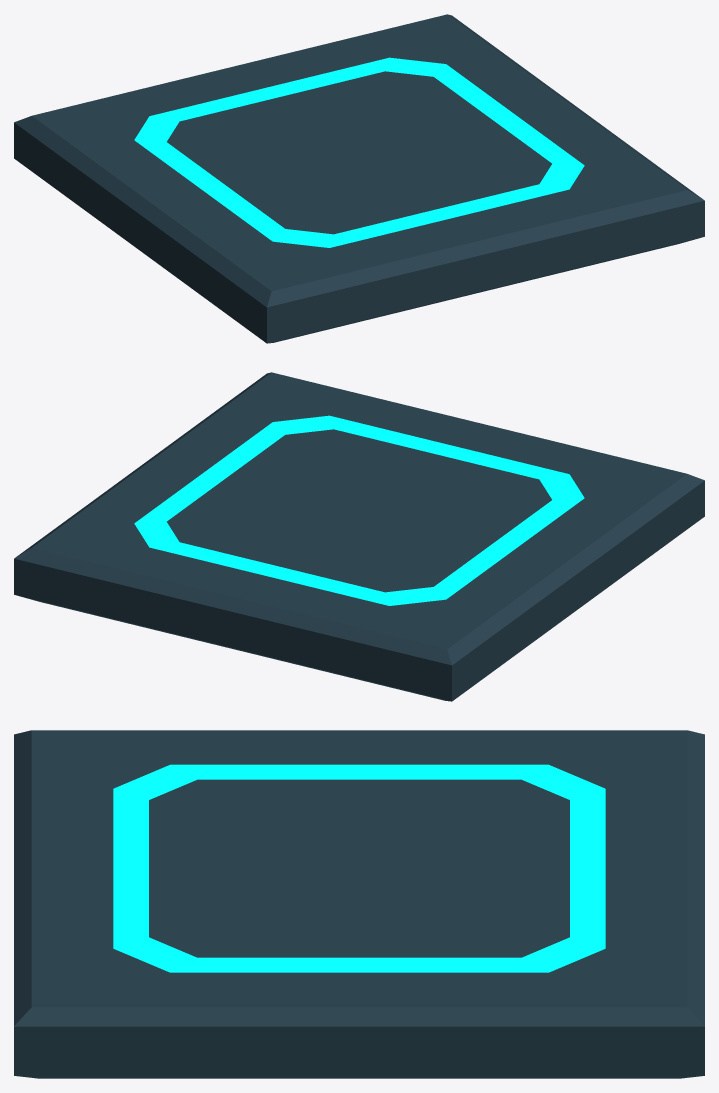
The model's file is arcfield_tile.glb.
3 renders of one model, top to bottom at view 1: azimuth 30°, elevation 25°; view 2: azimuth 150°, elevation 25°; view 3: azimuth 270°, elevation 25°, orthographic. The views are drawn at different scales.
Parts seen in each view (by area): view 1: Arcfield_Tile; view 2: Arcfield_Tile; view 3: Arcfield_Tile.
Boxes of the visible parts, box(x1,y1,x2,y2) form: Arcfield_Tile: box(14, 14, 704, 343); Arcfield_Tile: box(14, 372, 704, 701); Arcfield_Tile: box(14, 730, 704, 1078).
Size of the model in its own units: 2.92 by 0.35 by 2.92.
